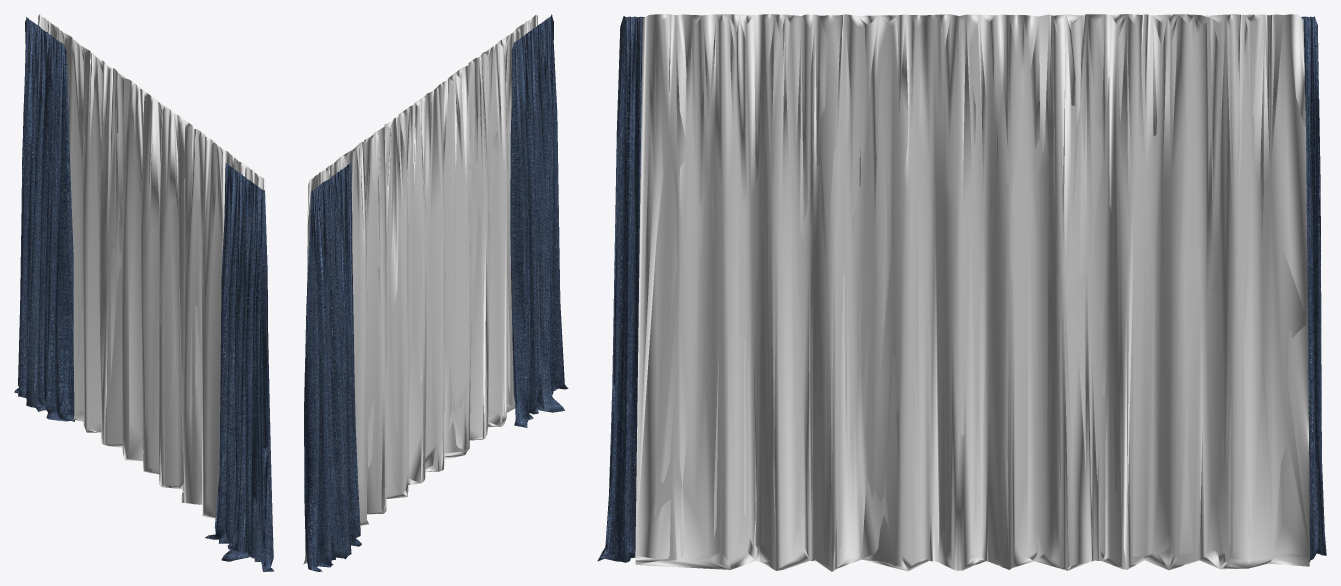
The model's file is curtains.glb.
3 views of the same model, side by side, from view 1: azimuth 30°, elevation 25°; view 2: azimuth 150°, elevation 25°; view 3: azimuth 270°, elevation 25° (orthographic). The views are drawn at different scales.
Parts seen in each view (by area): view 1: Plane01; view 2: Plane01; view 3: Plane01.
Part boxes in pixels (x1,y1,x2,y2): Plane01: (14, 14, 274, 571); Plane01: (303, 14, 568, 571); Plane01: (597, 14, 1326, 571).
Size of the model in its own units: 0.3655 by 2.87 by 3.44.
2 materials, 1 textured.
